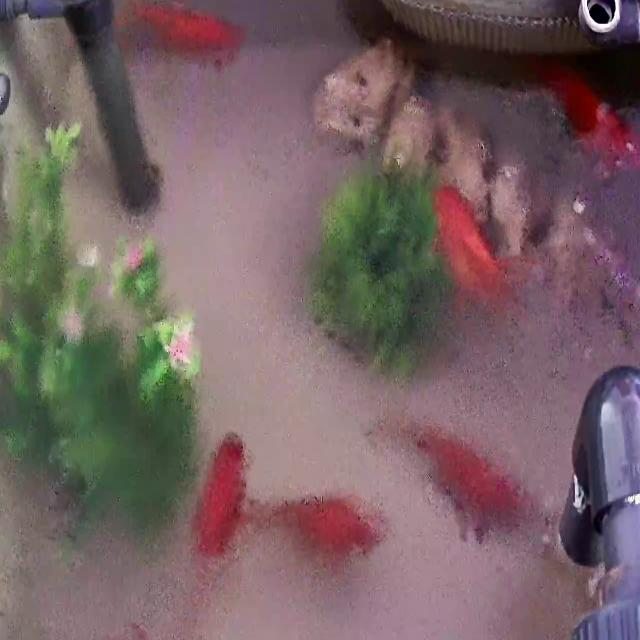fish: (411, 428, 534, 536), (535, 61, 640, 181), (432, 186, 527, 313), (261, 487, 380, 564), (190, 431, 248, 564), (127, 0, 243, 60)
